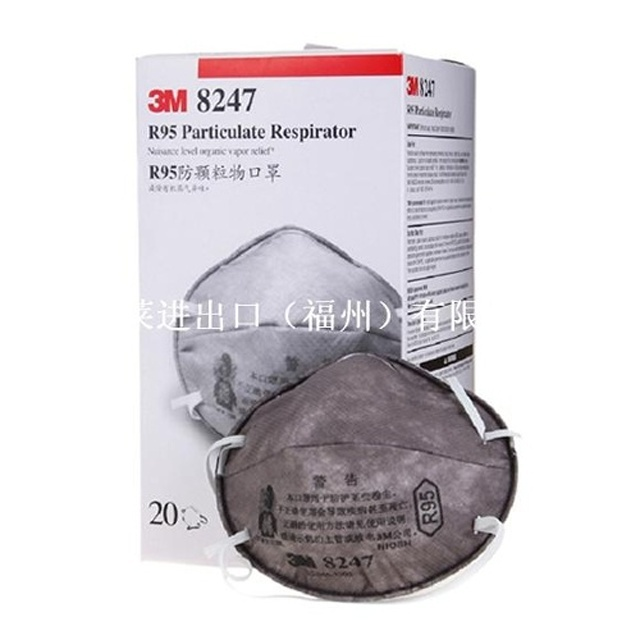mask: (207, 350, 522, 605), (172, 227, 400, 438)
